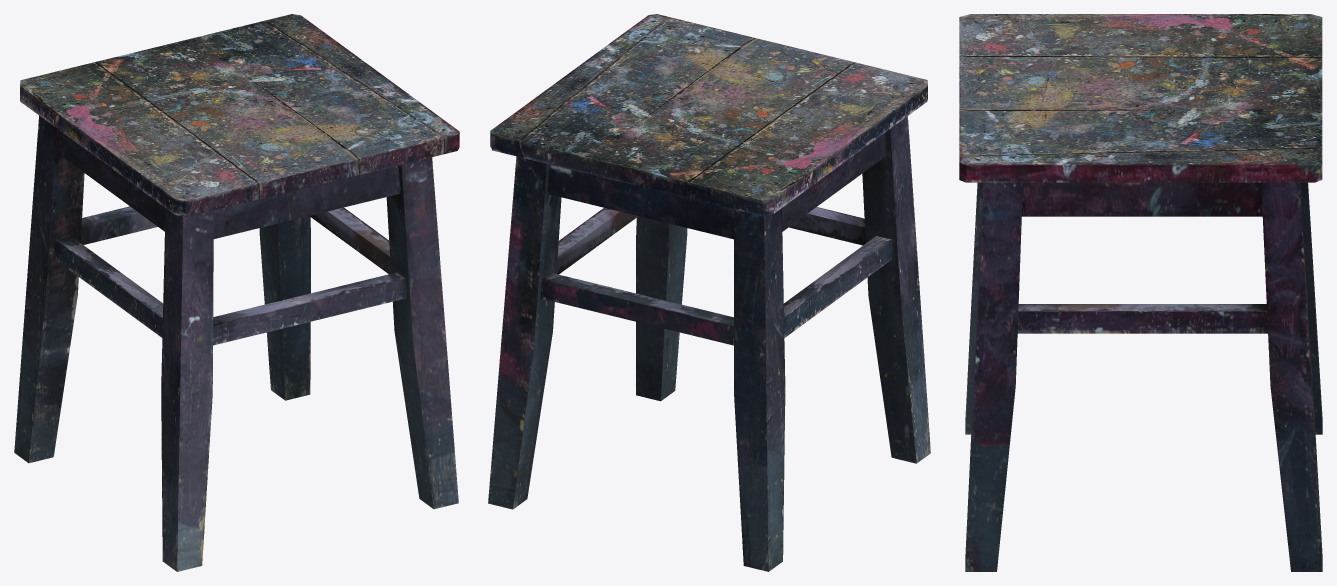
3 renders of one model, left to right at view 1: azimuth 30°, elevation 25°; view 2: azimuth 150°, elevation 25°; view 3: azimuth 270°, elevation 25°, orthographic. The views are drawn at different scales.
Visible parts, largest first — view 1: Stool01; view 2: Stool01; view 3: Stool01.
Boxes of the visible parts, x1,y1,x2,y2 form: Stool01: (14,14,459,571); Stool01: (488,14,930,571); Stool01: (959,14,1322,571).
Size of the model in its own units: 0.4622 by 0.5792 by 0.4685.
1 material, 1 textured.
